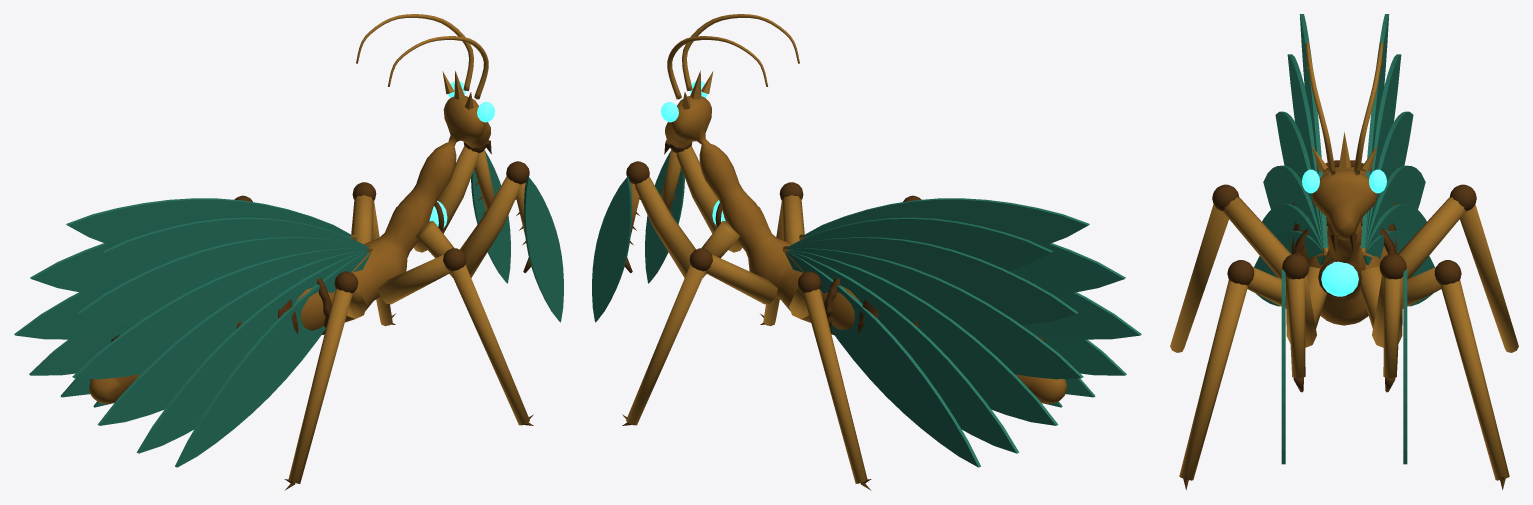
The model's file is mantis.glb.
3 views of the same model, side by side, from view 1: azimuth 30°, elevation 25°; view 2: azimuth 150°, elevation 25°; view 3: azimuth 270°, elevation 25° (orthographic). The views are drawn at different scales.
Parts seen in each view (by area): view 1: Body, Fan_N2, Fan_N5, Fan_N1, Fan_N3, Fan_N4, Fan_F0, Fan_N0, Blade_N, Fan_F1, Leg_HL_Tibia, Fan_F2 (+11 smaller); view 2: Body, Fan_F2, Fan_F5, Fan_F1, Fan_F3, Fan_F4, Fan_N0, Fan_F0, Blade_F, Fan_N1, Leg_HR_Tibia, Fan_N2 (+11 smaller); view 3: Body, Leg_FL_Tibia, Leg_FR_Tibia, Leg_HL_Tibia, Leg_HR_Tibia, Leg_HL_Femur, Leg_HR_Femur, Fan_N3, Fan_F3, Tibia_F, Tibia_N, Fan_N2 (+27 smaller).
Part boxes in pixels (left/top/right/bottom): Body: left=89, top=96, right=490, bottom=404; Fan_N2: left=72, top=248, right=367, bottom=379; Fan_N5: left=175, top=251, right=370, bottom=467; Fan_N1: left=77, top=237, right=368, bottom=324; Fan_N3: left=97, top=250, right=367, bottom=425; Fan_N4: left=136, top=251, right=368, bottom=453; Fan_F0: left=66, top=198, right=353, bottom=246; Fan_N0: left=103, top=217, right=369, bottom=270; Blade_N: left=524, top=176, right=563, bottom=322; Fan_F1: left=30, top=243, right=146, bottom=295; Leg_HL_Tibia: left=288, top=289, right=352, bottom=483; Fan_F2: left=14, top=292, right=134, bottom=339; Body: left=665, top=96, right=1066, bottom=403; Fan_F2: left=788, top=248, right=1083, bottom=379; Fan_F5: left=785, top=251, right=980, bottom=467; Fan_F1: left=787, top=237, right=1078, bottom=324; Fan_F3: left=788, top=250, right=1058, bottom=425; Fan_F4: left=787, top=251, right=1019, bottom=453; Fan_N0: left=802, top=198, right=1089, bottom=246; Fan_F0: left=786, top=217, right=1052, bottom=270; Blade_F: left=592, top=176, right=631, bottom=322; Fan_N1: left=1009, top=243, right=1125, bottom=295; Leg_HR_Tibia: left=803, top=289, right=867, bottom=483; Fan_N2: left=1021, top=292, right=1141, bottom=339; Body: left=1299, top=166, right=1387, bottom=325; Leg_FL_Tibia: left=1179, top=280, right=1247, bottom=480; Leg_FR_Tibia: left=1441, top=280, right=1509, bottom=480; Leg_HL_Tibia: left=1170, top=204, right=1228, bottom=352; Leg_HR_Tibia: left=1460, top=204, right=1518, bottom=352; Leg_HL_Femur: left=1222, top=197, right=1291, bottom=280; Leg_HR_Femur: left=1397, top=197, right=1466, bottom=280; Fan_N3: left=1263, top=165, right=1322, bottom=249; Fan_F3: left=1366, top=165, right=1425, bottom=249; Tibia_F: left=1383, top=277, right=1401, bottom=378; Tibia_N: left=1287, top=277, right=1305, bottom=378; Fan_N2: left=1275, top=111, right=1323, bottom=247.
Size of the model in its own units: 2.15 by 1.5 by 1.15.
